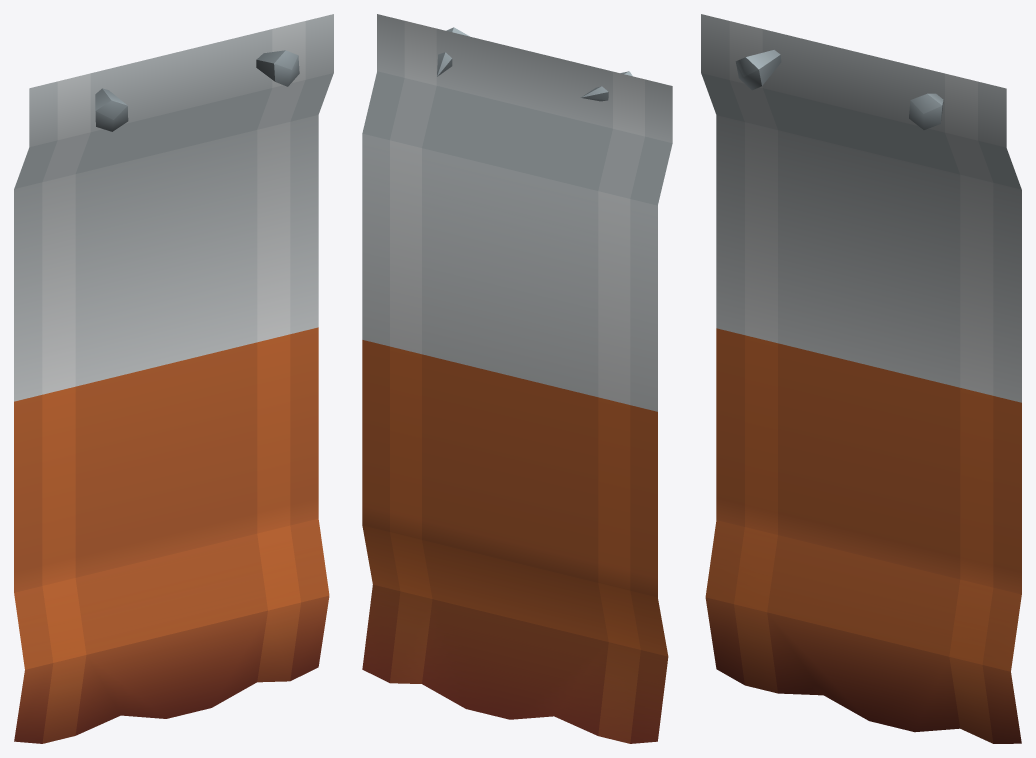
Rendered from banner_pattern_b_brown.gltf.
3 renders of one model, left to right at view 1: azimuth 30°, elevation 25°; view 2: azimuth 150°, elevation 25°; view 3: azimuth 330°, elevation 25°, orthographic. The views are drawn at different scales.
Parts seen in each view (by area): view 1: banner_patternB_brown; view 2: banner_patternB_brown; view 3: banner_patternB_brown.
Boxes of the visible parts, left/top/right/bottom form: banner_patternB_brown: left=14, top=14, right=333, bottom=743; banner_patternB_brown: left=362, top=14, right=672, bottom=743; banner_patternB_brown: left=701, top=14, right=1021, bottom=743.
Bounding box in the file's own units: 1.5 × 3.2 × 0.3119.
1 material, 1 textured.
